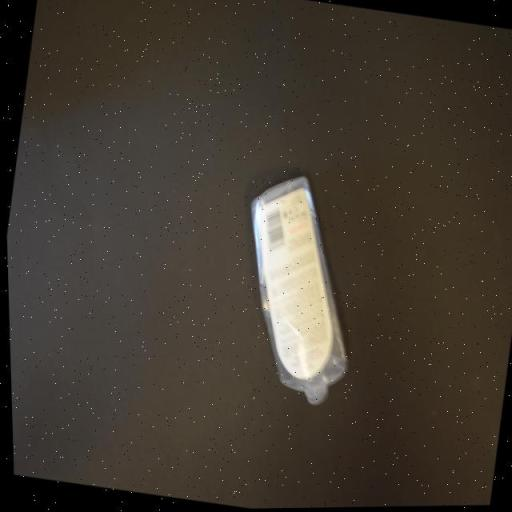plastic: (220, 170, 374, 411)
